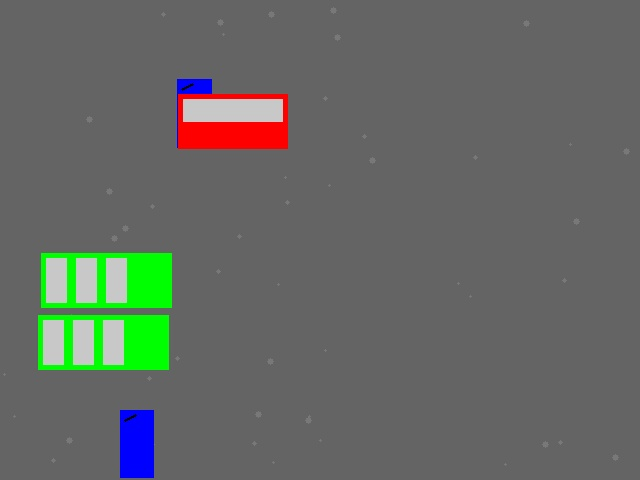bus: (38, 315, 168, 369), (41, 253, 171, 307)
car: (178, 94, 287, 148)
motorcycle: (177, 79, 211, 147), (120, 410, 153, 477)
